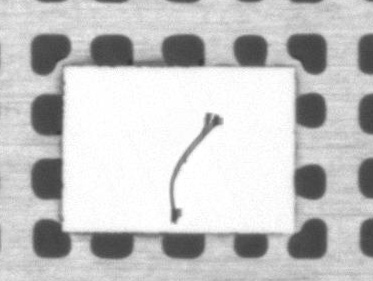DIE_INK: (171, 111, 223, 224)
